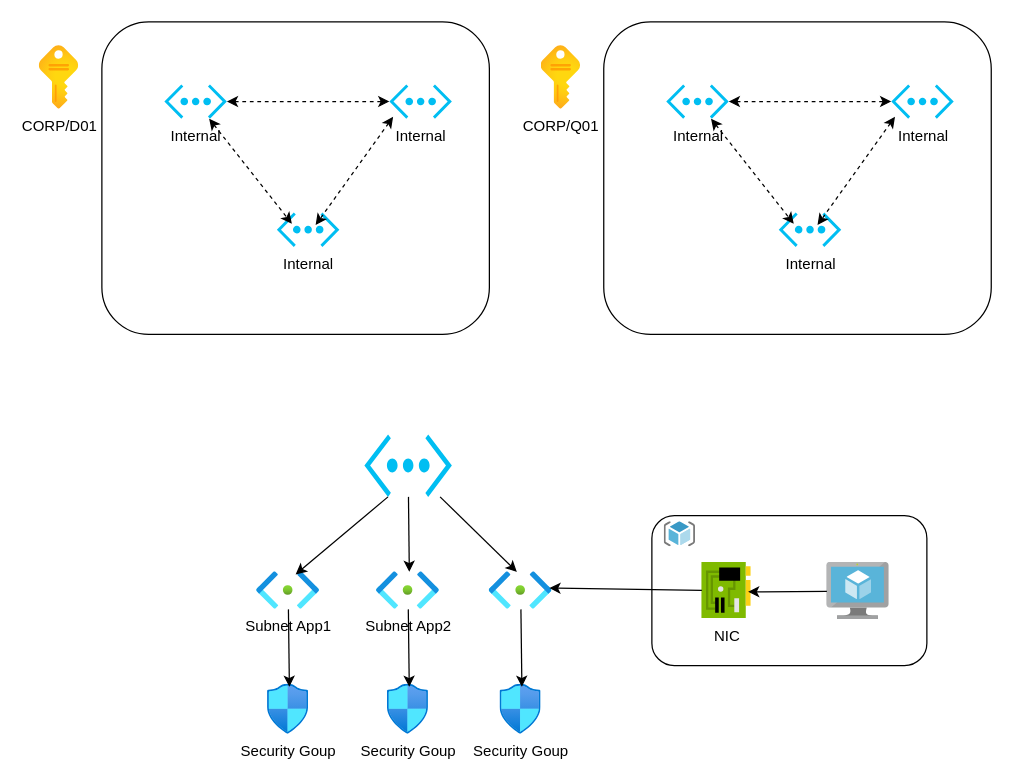
Some shapes in this 1014 by 783 pixel diagram are drawn without their labels. The box of each missing label's shape, as (x1, y1, x2, y2) in pixels:
Subnet App3: (489, 571, 551, 609)
VM: (826, 562, 889, 619)
VNET: (364, 434, 451, 496)
